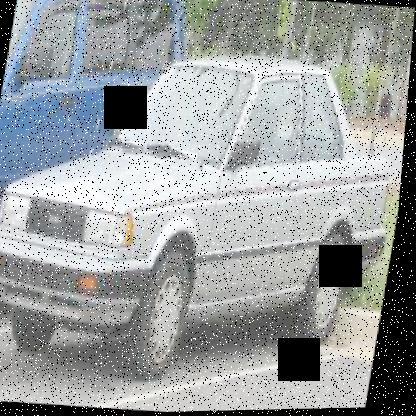not_emergency: (0, 27, 413, 397)
